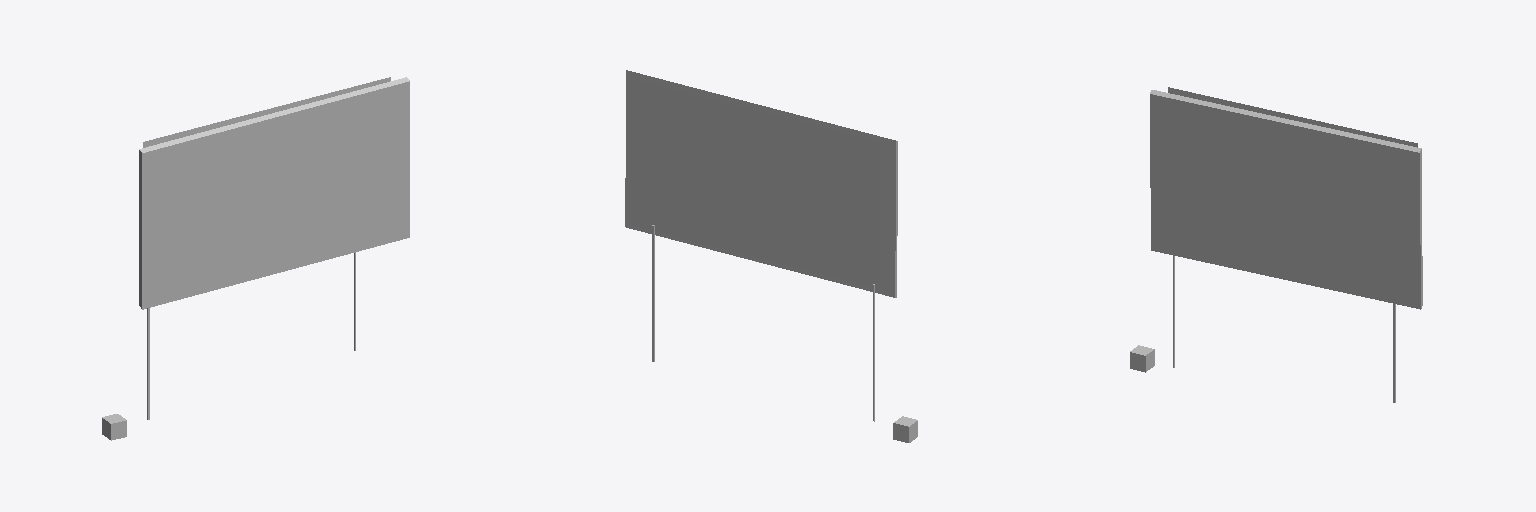
File: s200Sign.obj
The picture shows the model from 3 angles: view 1: azimuth 30°, elevation 25°; view 2: azimuth 150°, elevation 25°; view 3: azimuth 330°, elevation 25°; orthographic projection.
Parts seen in each view (by area): view 1: Cube.002, Plane, Cube; view 2: Plane, Cube.002, Cube; view 3: Cube.002, Plane, Cube.
Part boxes in pixels (left/top/right/bottom): Cube.002: left=139, top=77, right=409, bottom=309; Plane: left=143, top=77, right=390, bottom=147; Cube: left=102, top=414, right=126, bottom=440; Plane: left=630, top=79, right=879, bottom=287; Cube.002: left=625, top=70, right=897, bottom=297; Cube: left=893, top=416, right=917, bottom=442; Cube.002: left=1150, top=90, right=1422, bottom=309; Plane: left=1168, top=87, right=1417, bottom=147; Cube: left=1130, top=345, right=1154, bottom=372.
Size of the model in its own units: 36.97 by 35.11 by 3.61.